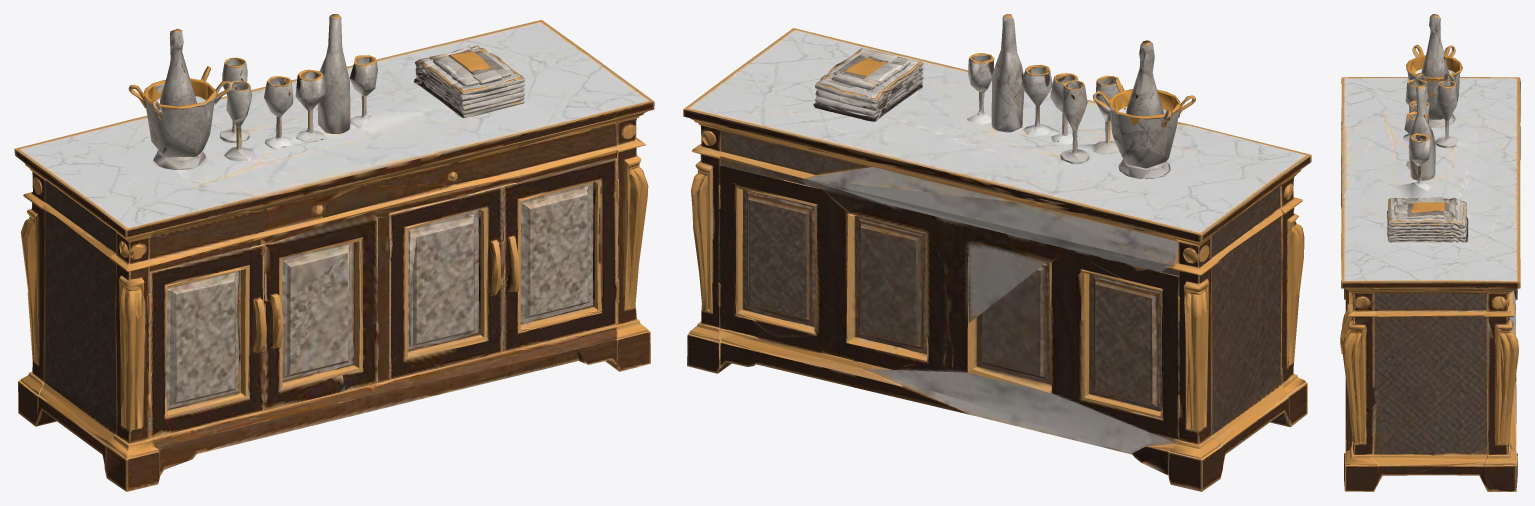
Rendered from serviceBuffet-medio.glb.
The picture shows the model from 3 angles, left to right: view 1: azimuth 30°, elevation 25°; view 2: azimuth 150°, elevation 25°; view 3: azimuth 270°, elevation 25°; orthographic projection. The views are drawn at different scales.
Bounding box in the file's own units: 1.9 × 1.36 × 0.7061.
Materials: 1 (1 with a texture image).
